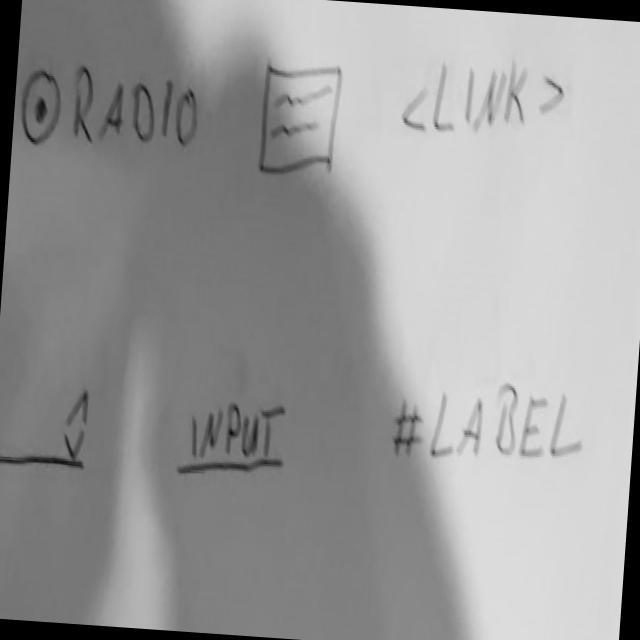input: (173, 388, 294, 489)
label: (386, 371, 591, 482)
link: (400, 46, 570, 152)
number-input: (1, 372, 94, 483)
radio: (15, 55, 205, 167)
textarea: (255, 59, 346, 185)
